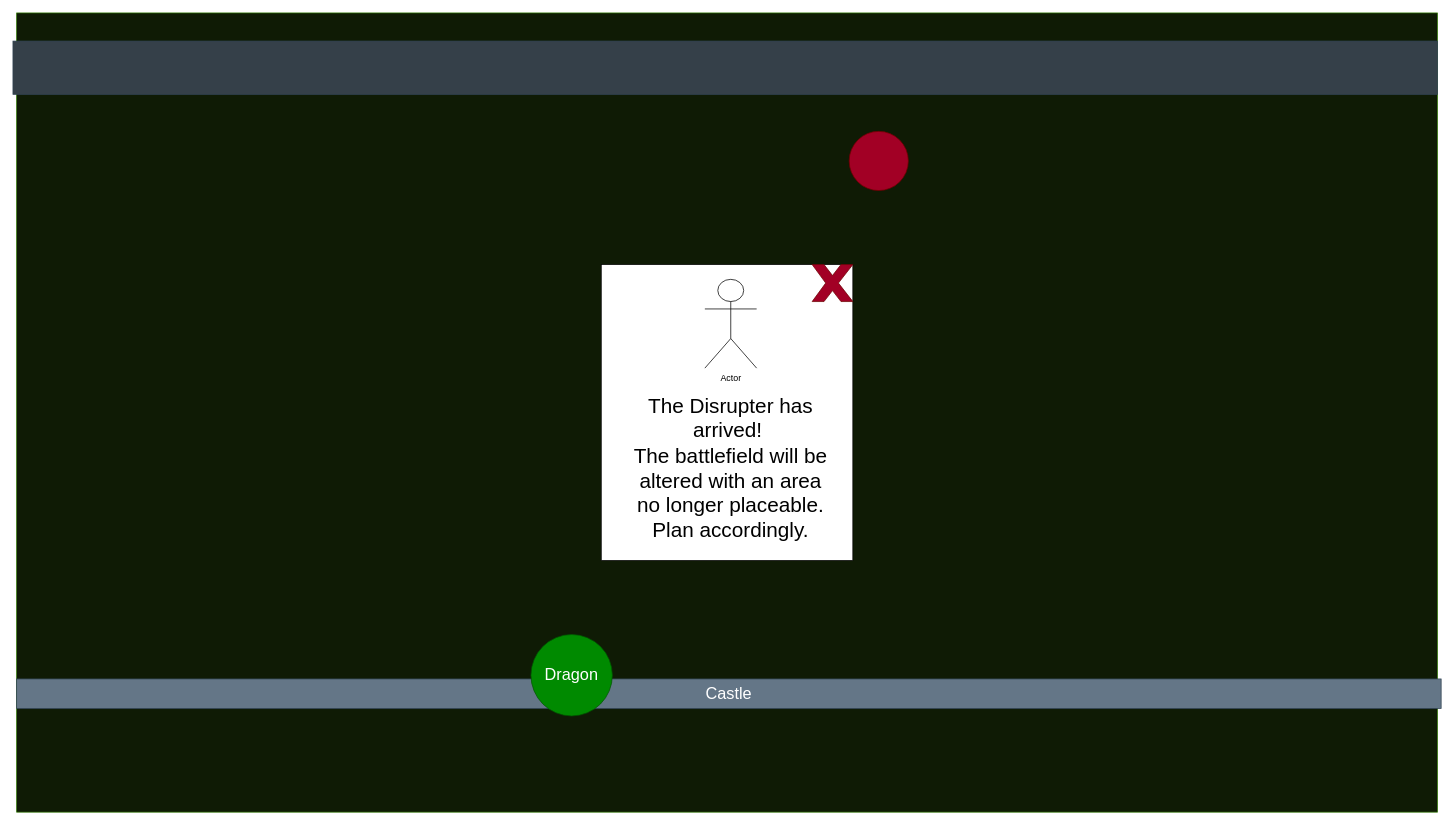
This 1454x825 diagram has some shape labels left out. Here are the shapes that lost their labels. From the top down, the centre of each, then its label:
At [724,67]: "Castle Wall".
At [878,161]: "New Enemy".
